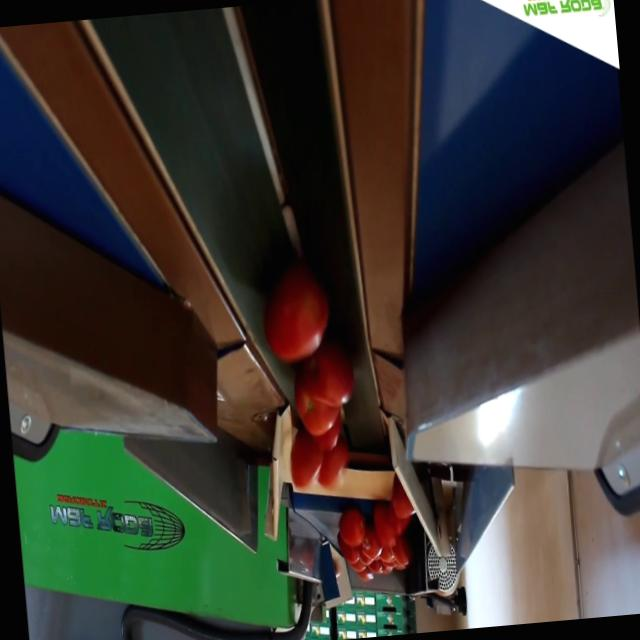Tomato: (260, 268, 332, 366), (302, 347, 359, 406), (291, 374, 338, 434), (313, 441, 355, 495), (286, 437, 326, 492), (389, 474, 416, 518), (338, 511, 367, 551), (372, 507, 394, 547), (392, 536, 414, 564), (342, 544, 361, 564), (377, 545, 393, 566), (357, 569, 373, 584)
